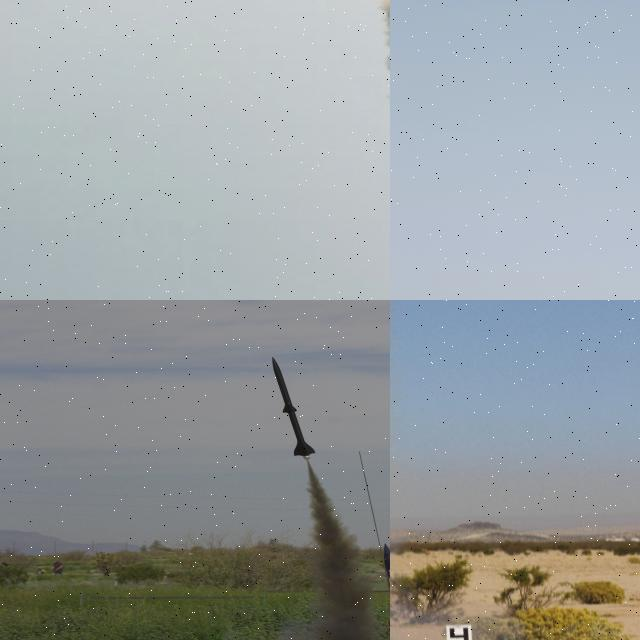Rocket: (272, 356, 317, 458), (383, 543, 390, 633)
